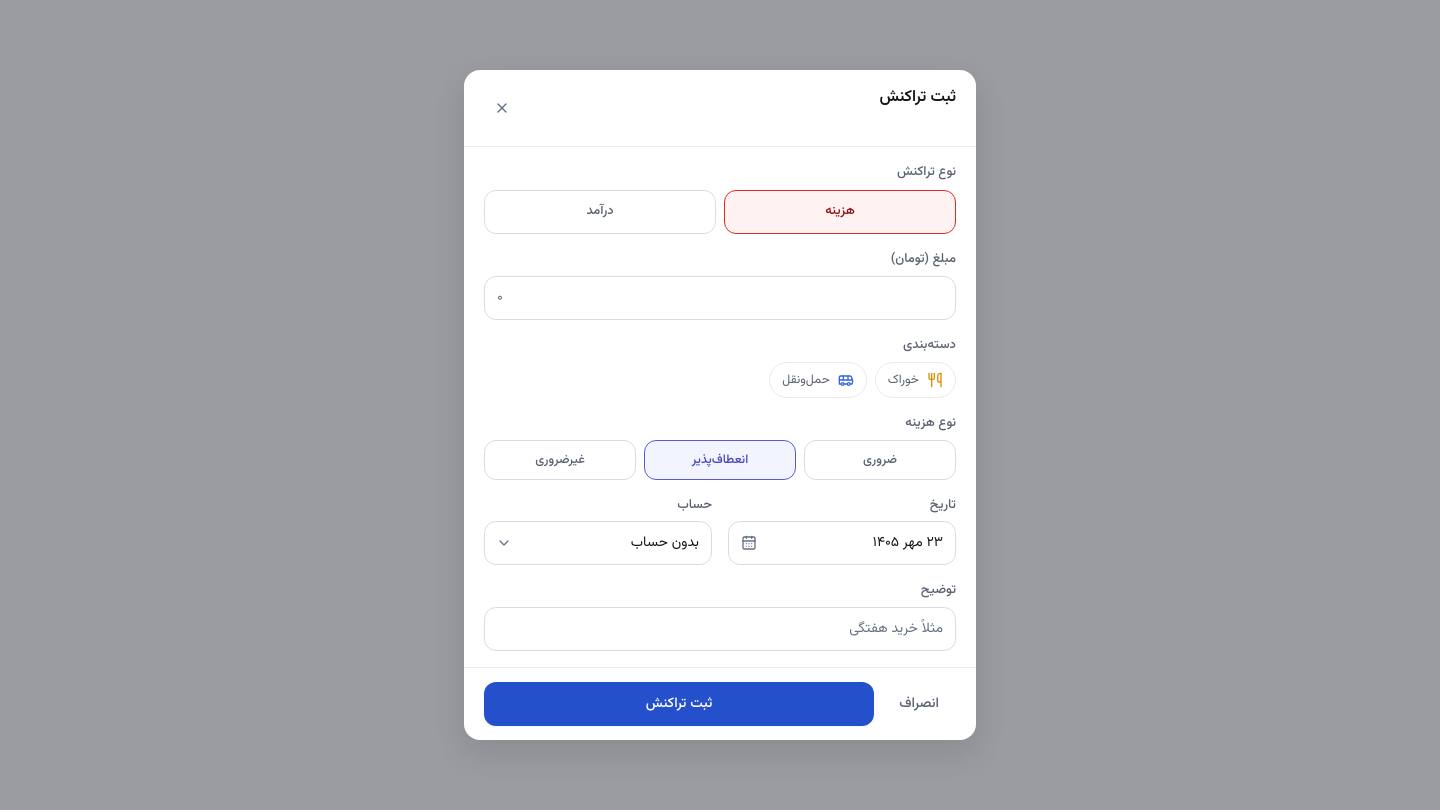
Test case: TransactionForm › attaches a server field error to its own input
Check: the button "خوراک" is shown, box [875,362,956,398]
Type "250000" into the field labelled "مبلغ (تومان)" at x=720, y=298, box [484,276,956,320]
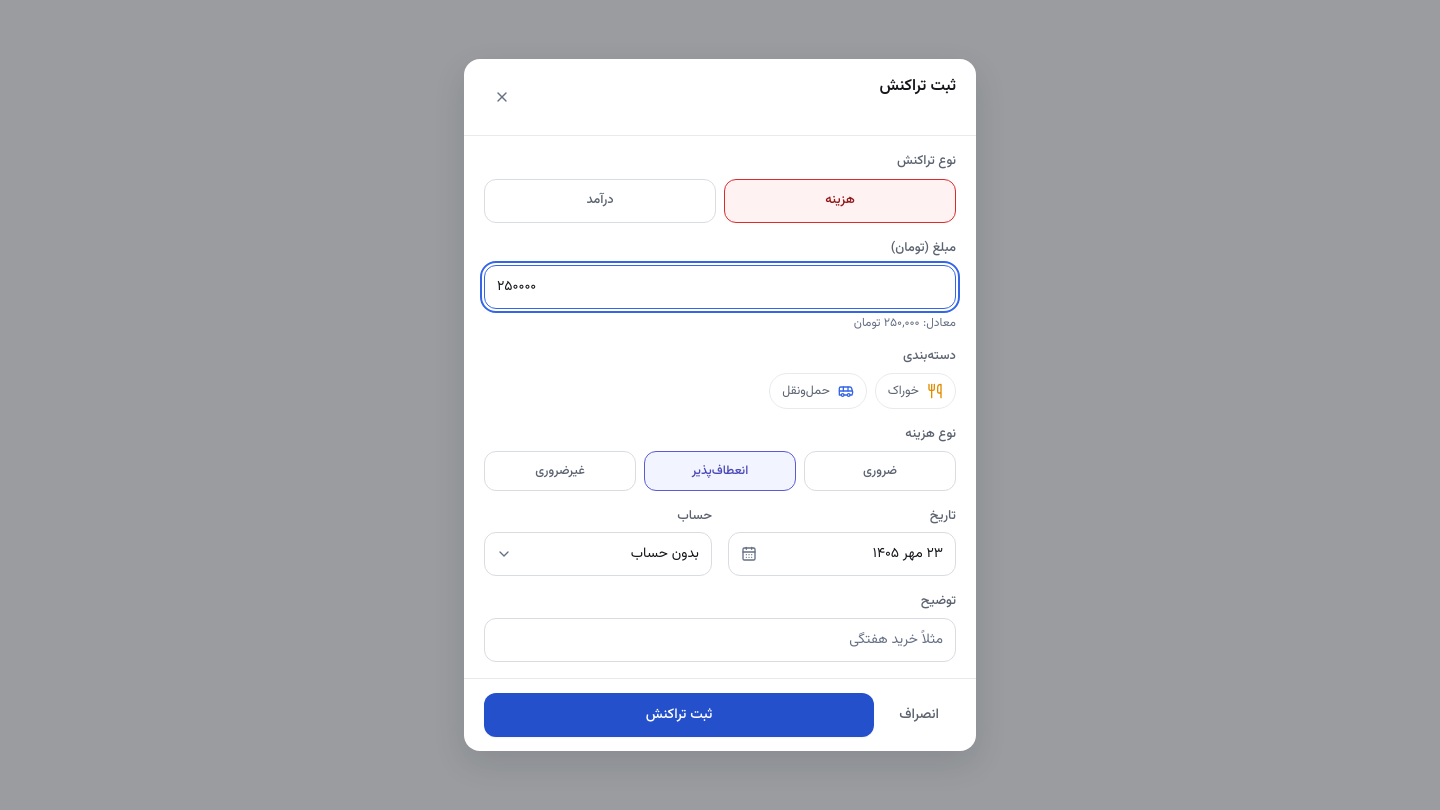
Click the button "خوراک" at x=915, y=391, box [875,373,956,409]
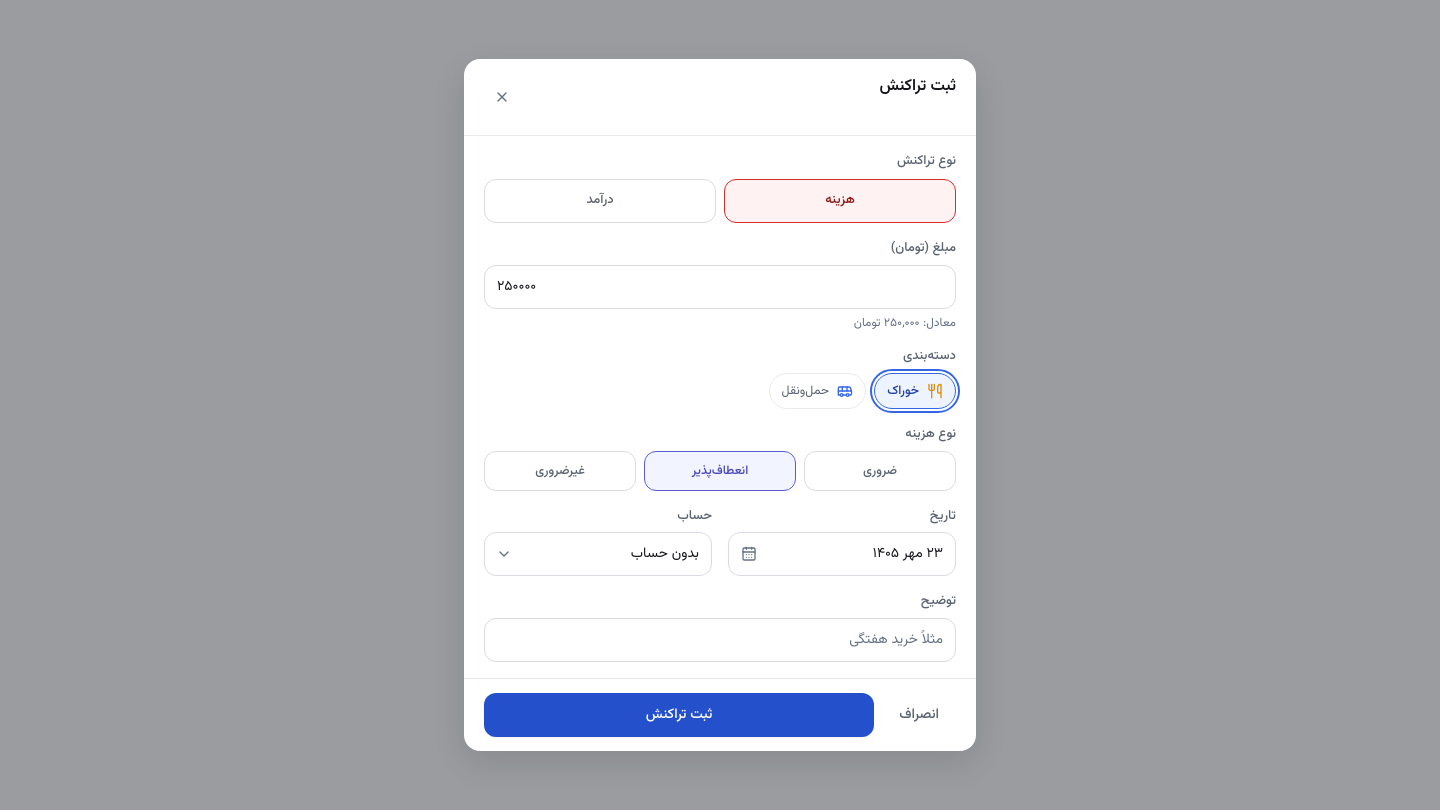
Click the button "ثبت تراکنش" at x=679, y=715, box [484,693,874,737]
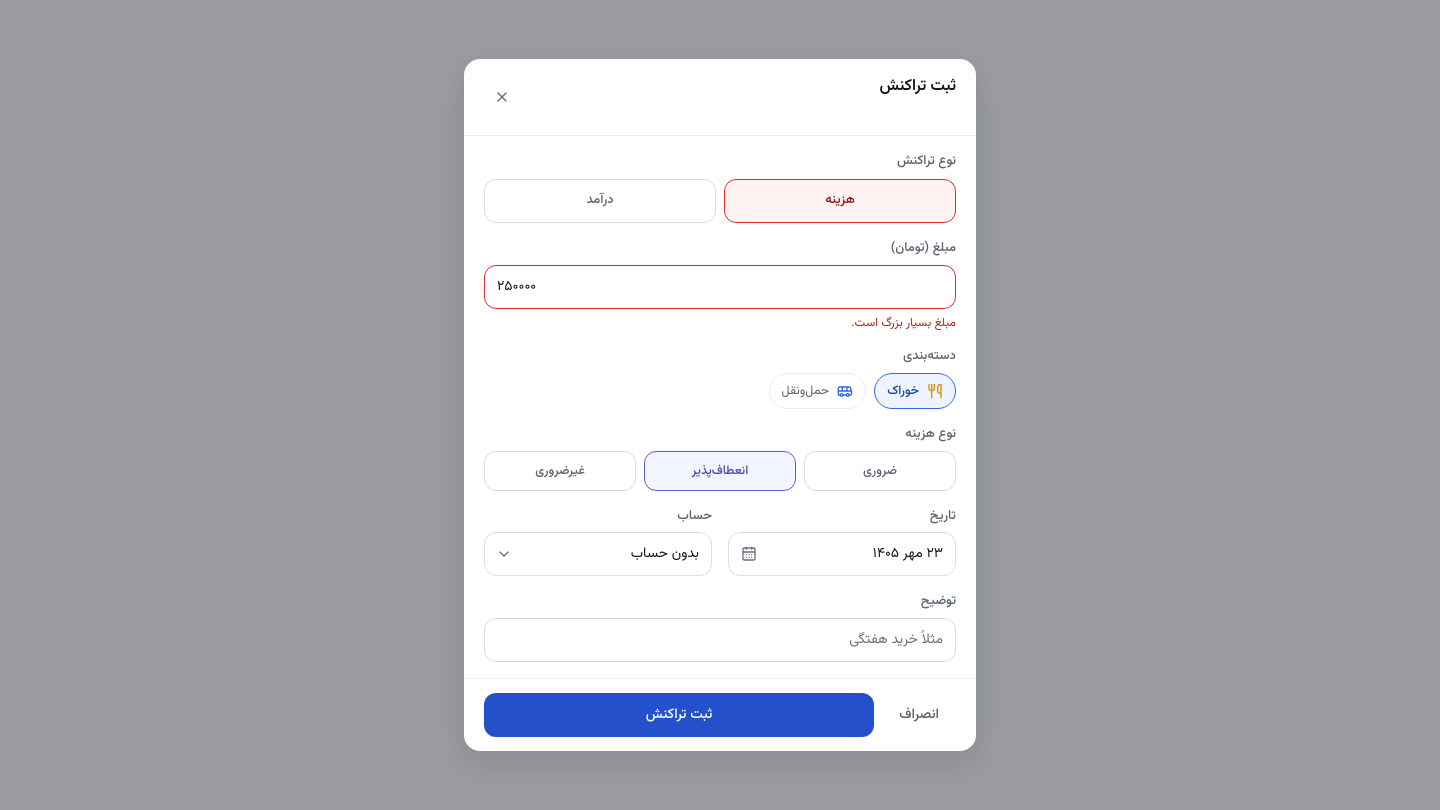
Check: the text "مبلغ بسیار بزرگ است." is shown, box [851,314,956,332]
